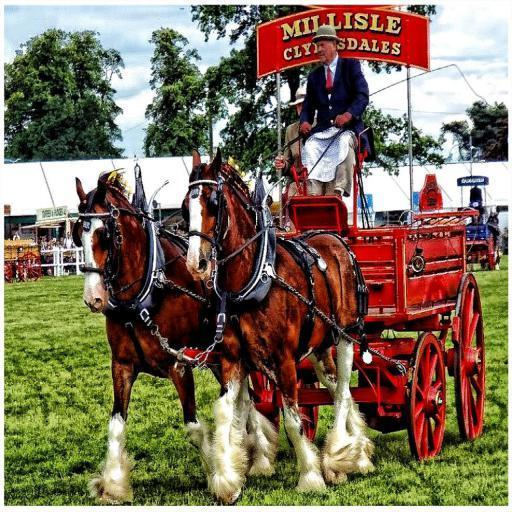horse: (177, 146, 376, 504), (70, 169, 280, 504)
